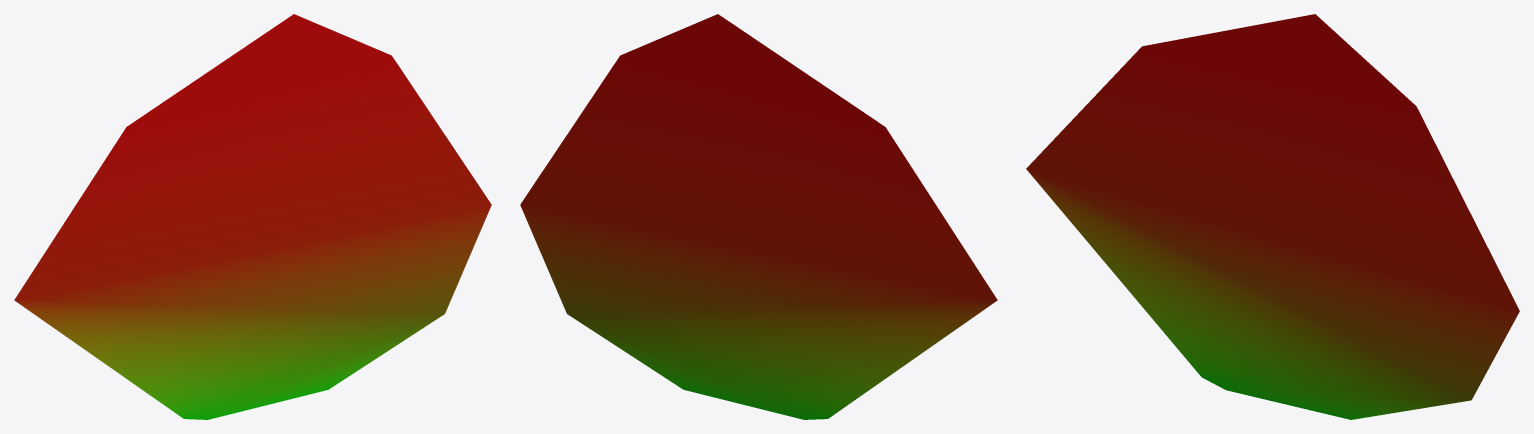
The model's file is Var1_LOD4.fbx.
3 views of the same model, side by side, from view 1: azimuth 30°, elevation 25°; view 2: azimuth 150°, elevation 25°; view 3: azimuth 330°, elevation 25° (orthographic). The views are drawn at different scales.
Visible parts, largest first — view 1: _70fu_Var1_LOD4; view 2: _70fu_Var1_LOD4; view 3: _70fu_Var1_LOD4.
Part boxes in pixels (left/top/right/bottom): _70fu_Var1_LOD4: left=14, top=14, right=491, bottom=419; _70fu_Var1_LOD4: left=520, top=14, right=997, bottom=419; _70fu_Var1_LOD4: left=1026, top=14, right=1519, bottom=419.
Size of the model in its own units: 53.98 by 41.57 by 2.35e-06.
